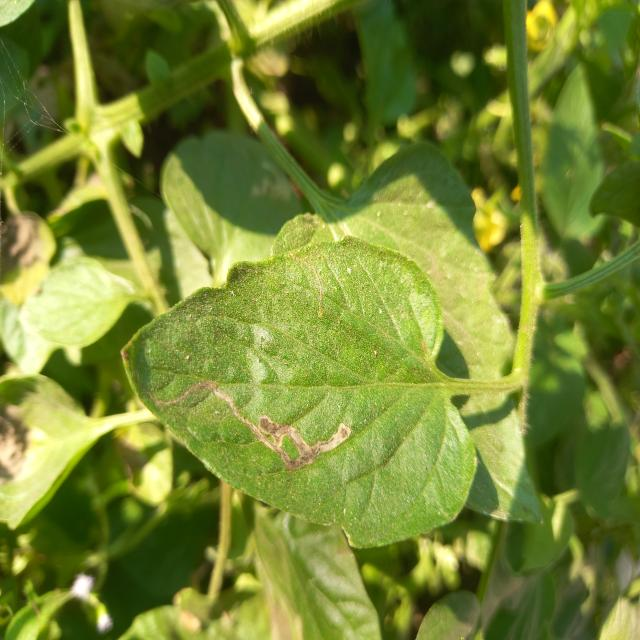Tuta absoluta: (153, 356, 354, 486)
